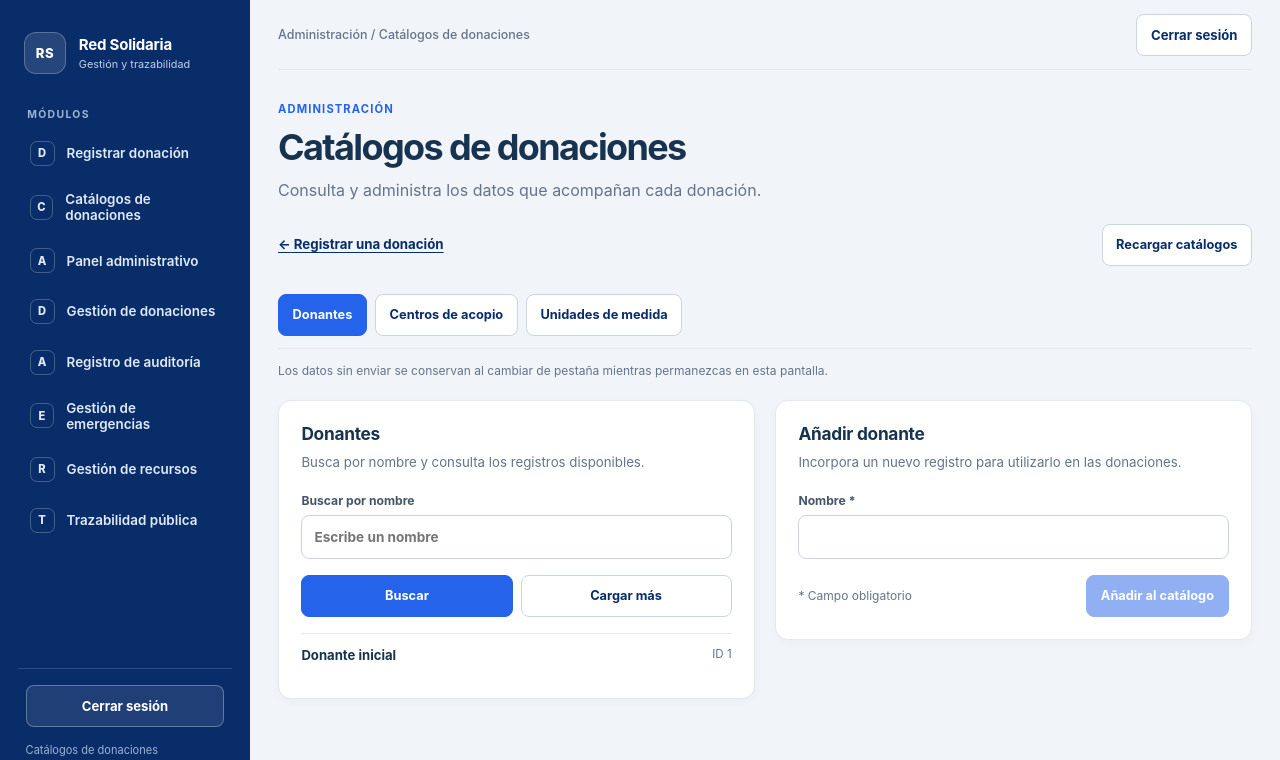
Test case: DonationRegistrationPageComponent › filters units locally by name, code and symbol and refreshes the list after creation
Click the tab "Unidades de medida". click: (604, 315)
box: x1=526 y1=294 x2=682 y2=336
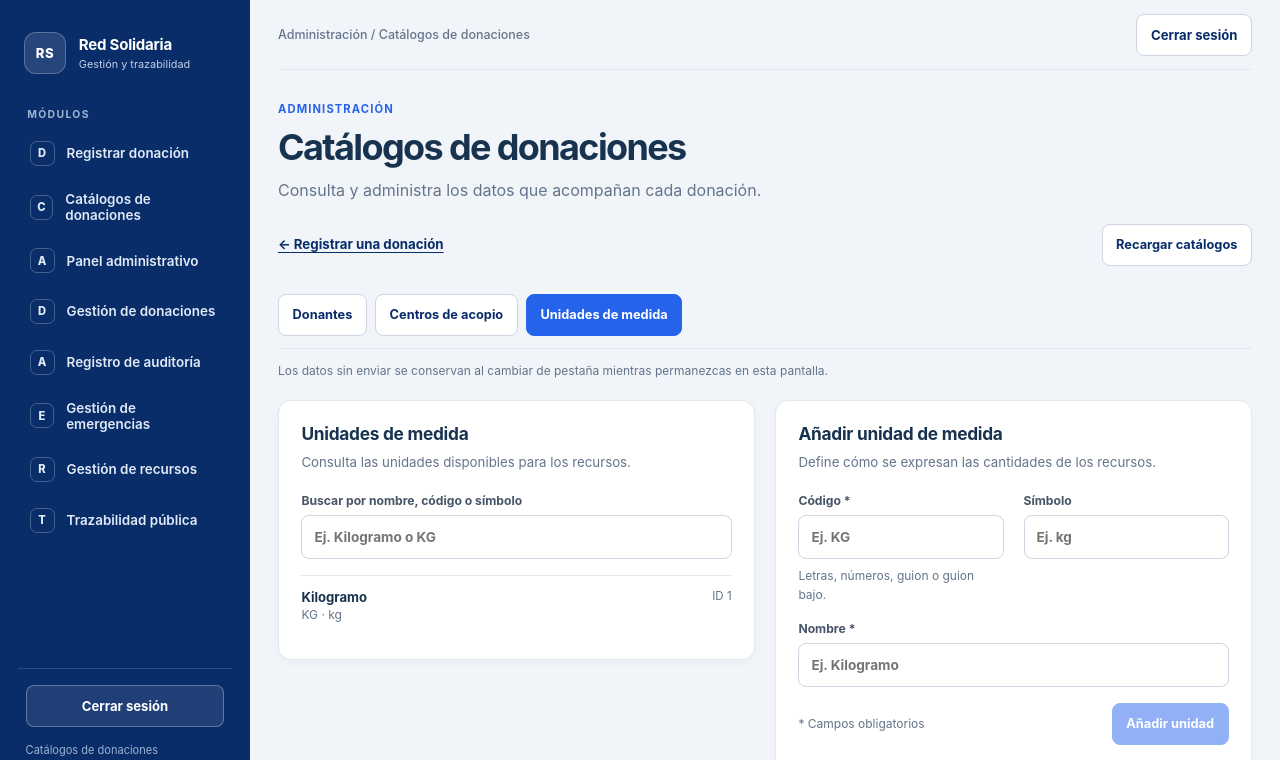
Type "Kilo" into the field named "unitSearch". click: (516, 537)
box: x1=301 y1=515 x2=732 y2=559
Replace the text in the field named "unitSearch" with "KG". click: (516, 537)
box: x1=301 y1=515 x2=732 y2=559
Replace the text in the field named "unitSearch" with "kg". click: (516, 537)
box: x1=301 y1=515 x2=732 y2=559
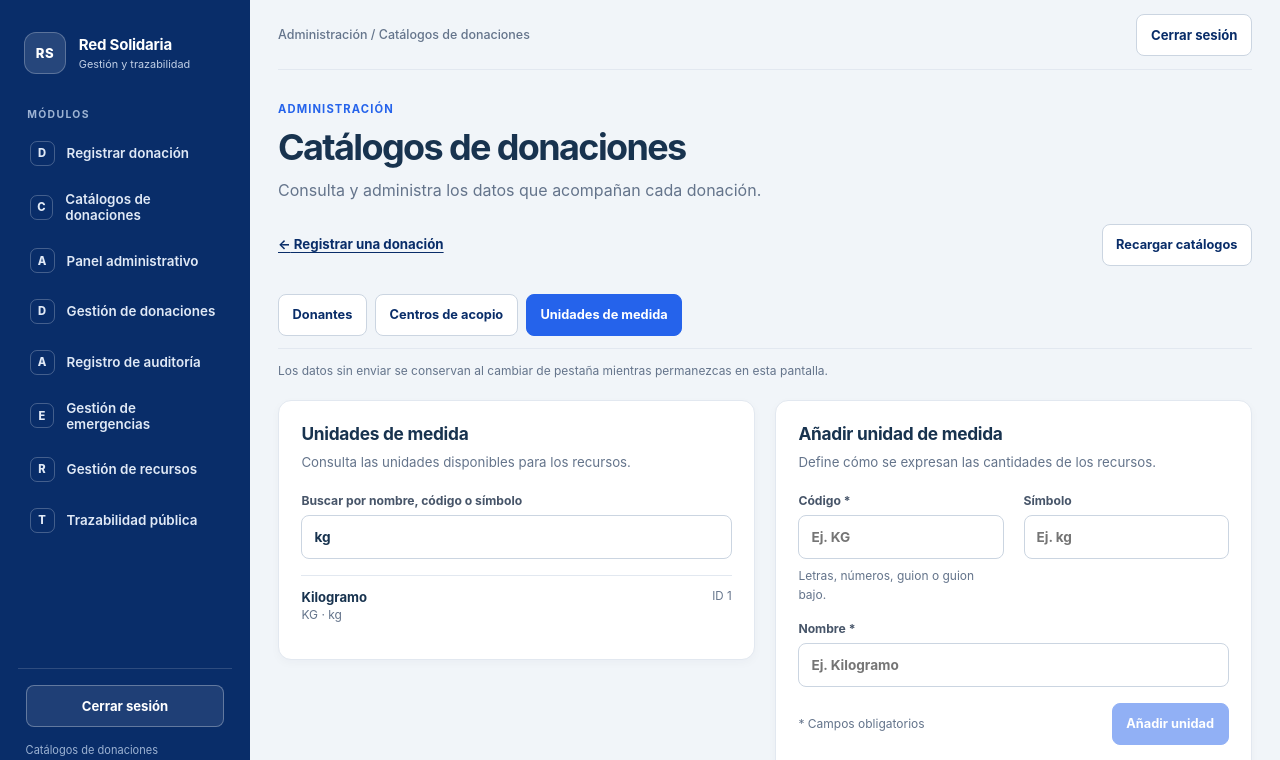
Replace the text in the field named "unitSearch" with "No existe". click: (516, 537)
box: x1=301 y1=515 x2=732 y2=559
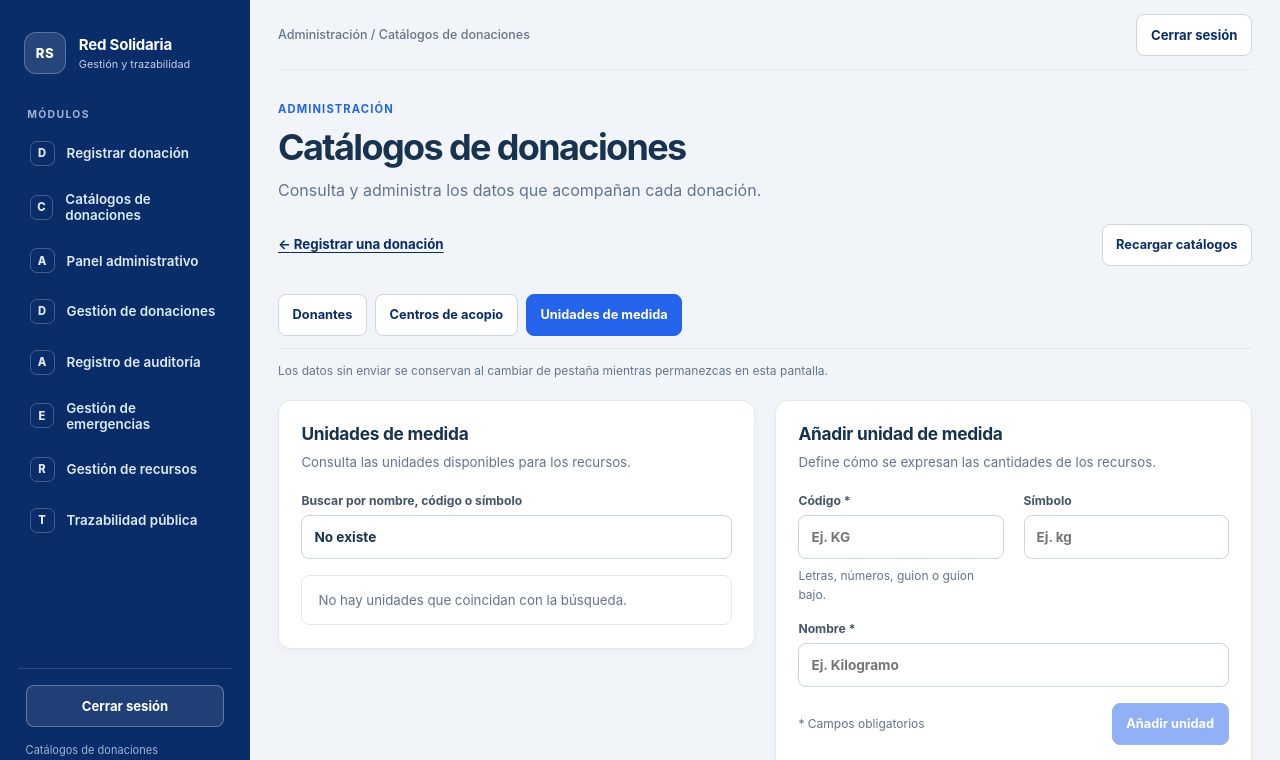
Check: the message with class "donation-empty" shows "No hay unidades", box x1=318 y1=592 x2=627 y2=608
Type "LT" into the field named "unitCode". click: (901, 537)
box: x1=798 y1=515 x2=1004 y2=559
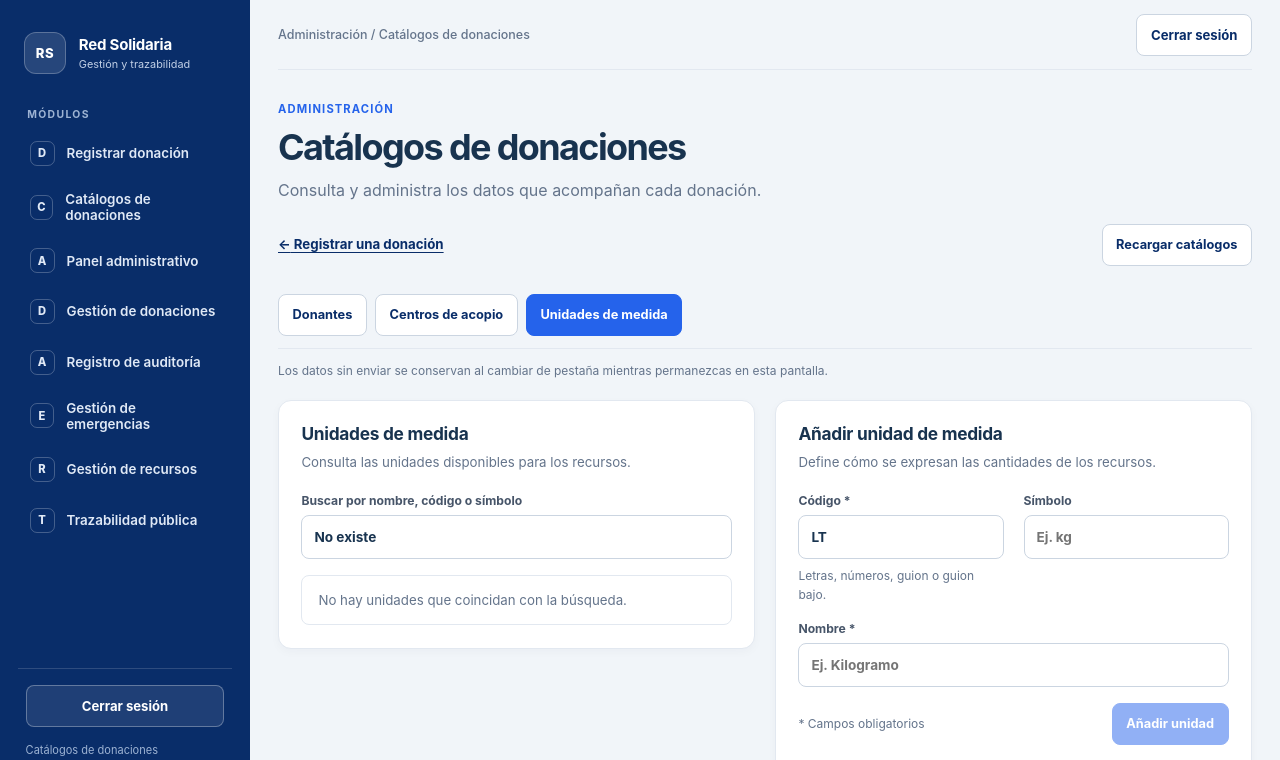
Type "Litro" into the field named "unitName". click: (1014, 665)
box: x1=798 y1=643 x2=1229 y2=687
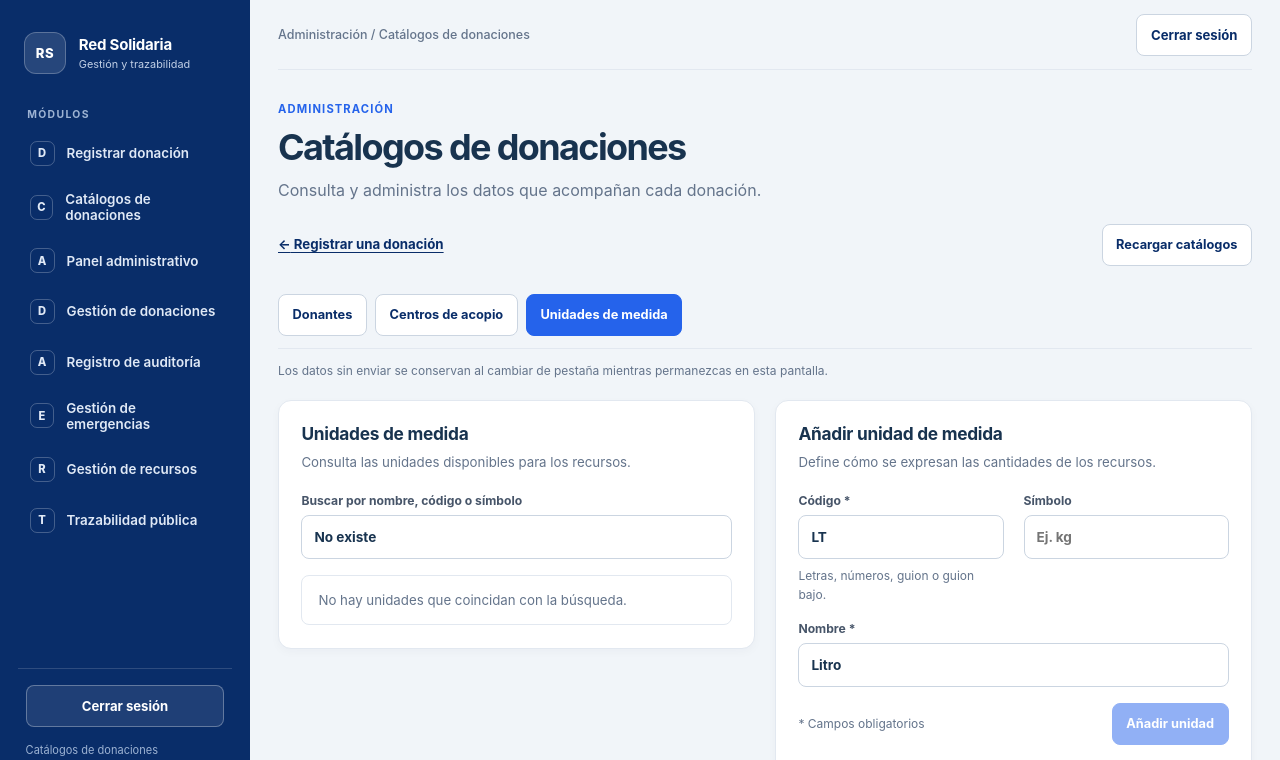
Submit the form, box x1=798 y1=493 x2=1229 y2=745
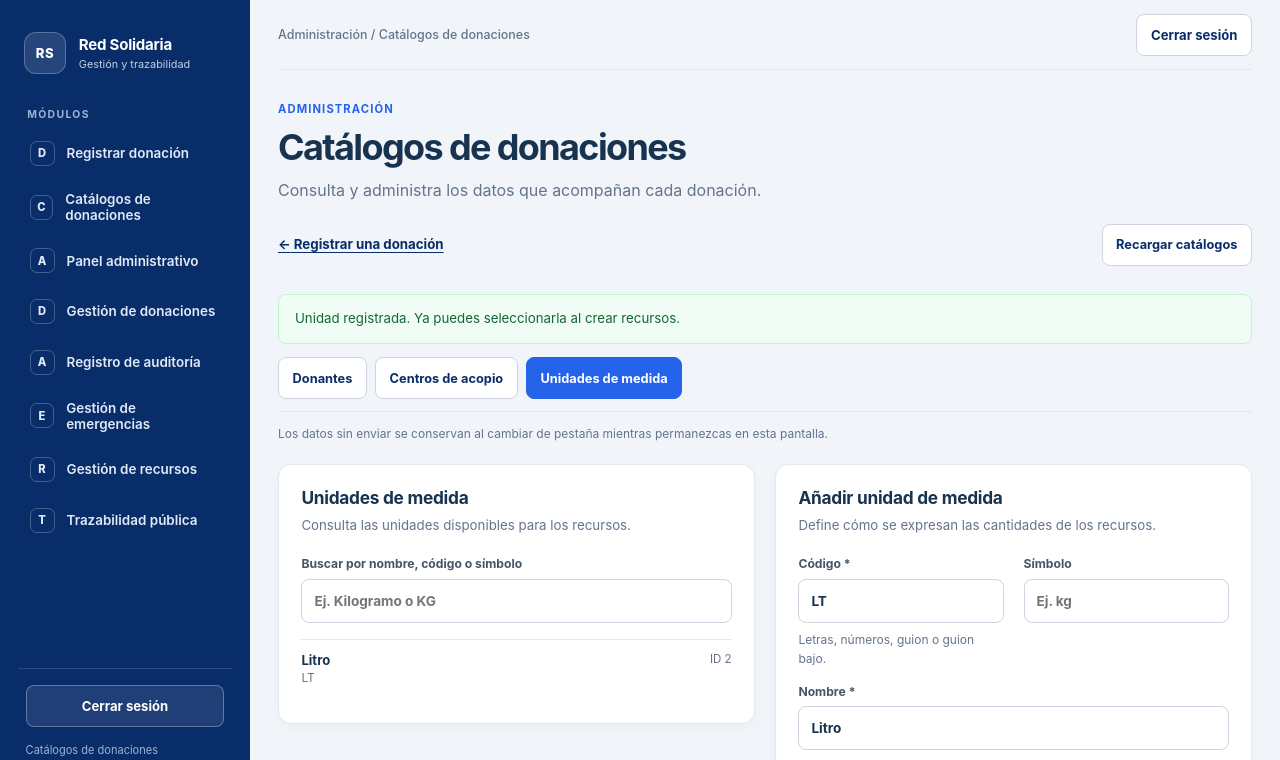
Check: the message "Unidad registrada. Ya puedes seleccionarla al crear recursos." is shown, box x1=278 y1=294 x2=1252 y2=344
